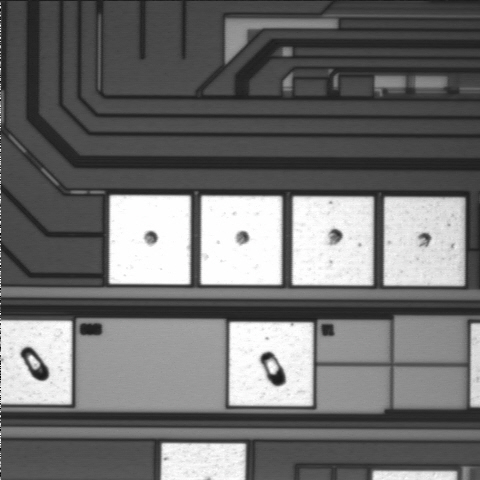pad: (109, 195, 191, 284), (201, 196, 282, 285), (292, 196, 373, 285), (384, 197, 465, 286), (229, 322, 313, 406)
